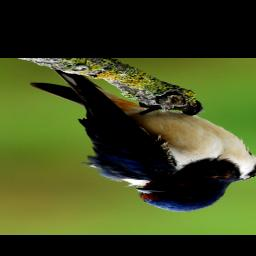Swallow: (28, 67, 256, 213)
